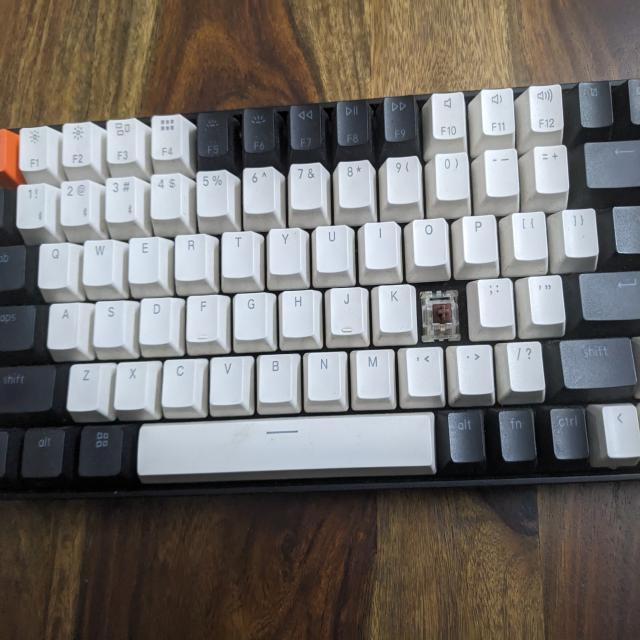key-switch: (422, 287, 459, 334)
